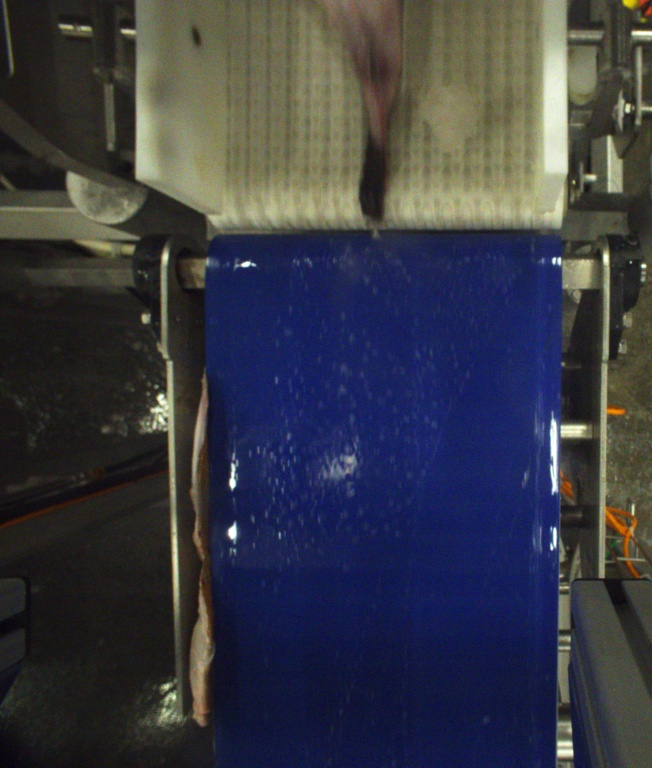ANF: (317, 0, 402, 227)
